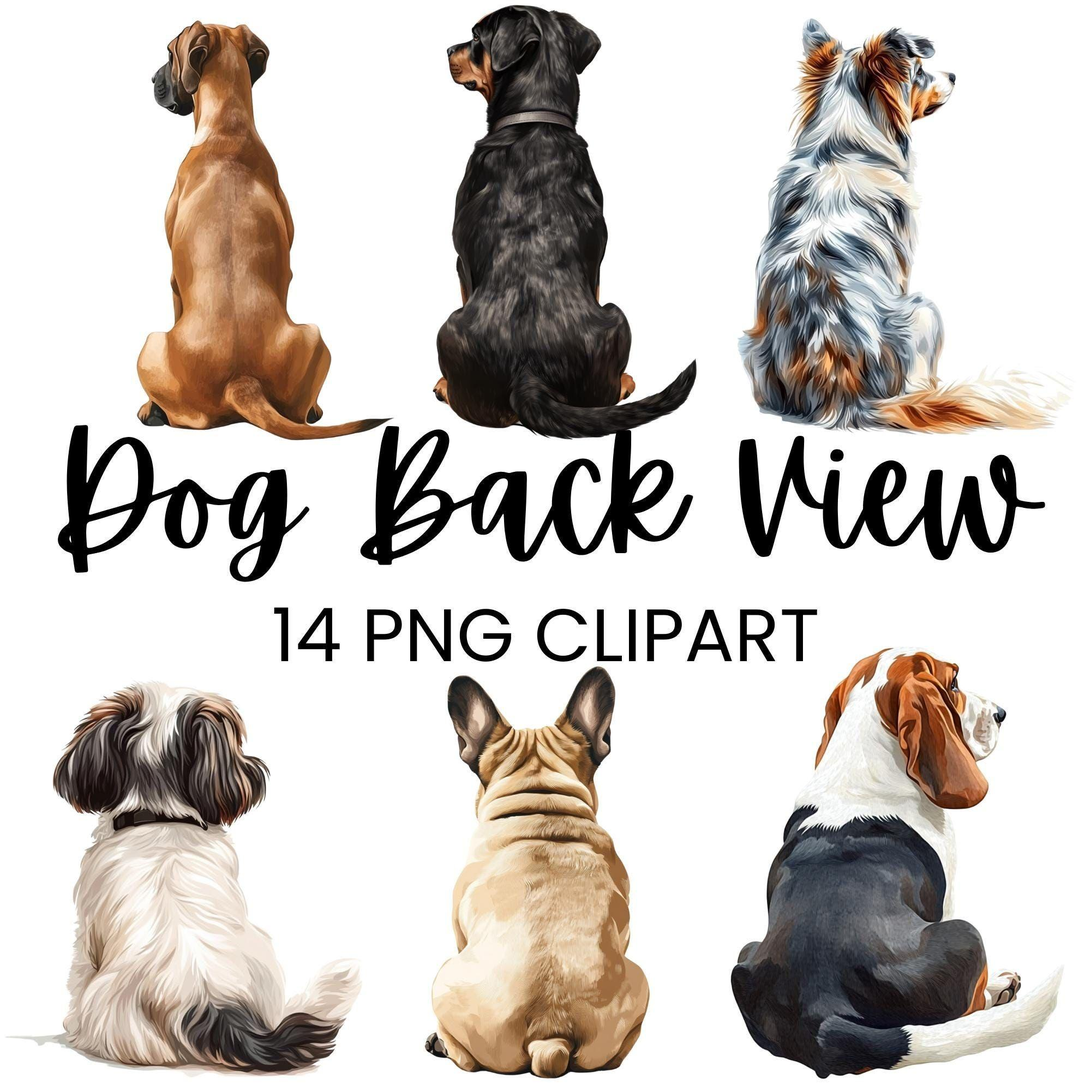adult_dog: (730, 646, 1065, 1080), (738, 17, 1071, 436), (50, 679, 363, 1076), (432, 4, 697, 441), (135, 20, 394, 441), (424, 666, 652, 1079)
